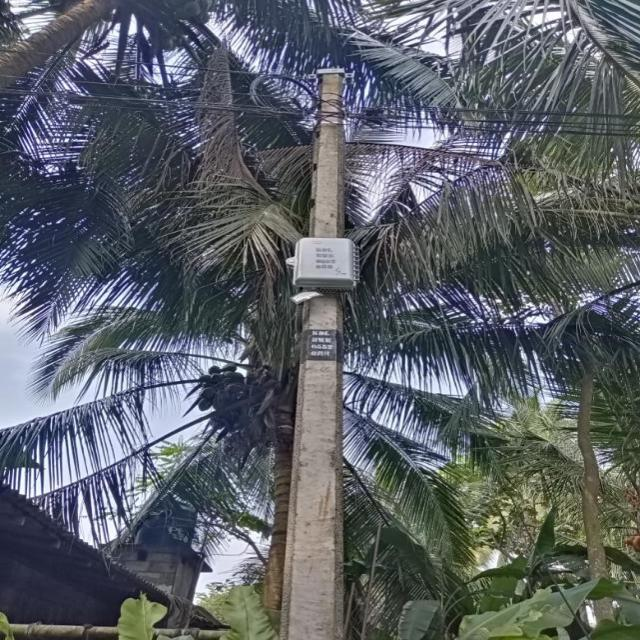light_pole: (272, 63, 364, 640)
